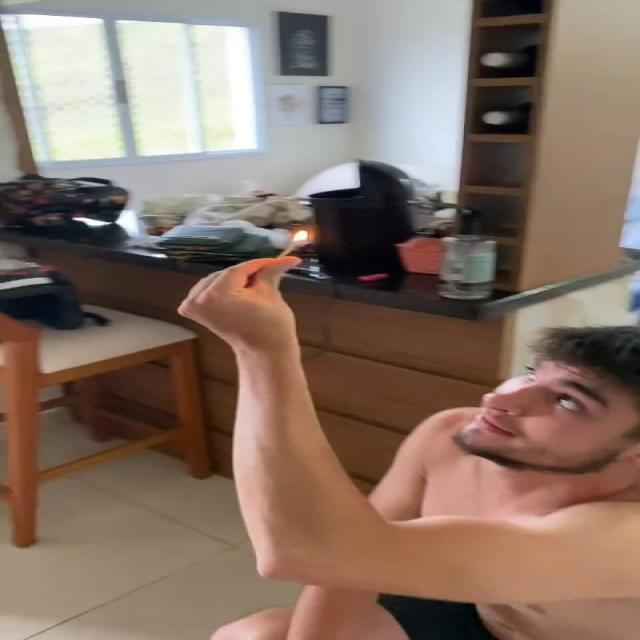fogo-ypXI: (288, 227, 315, 246)
